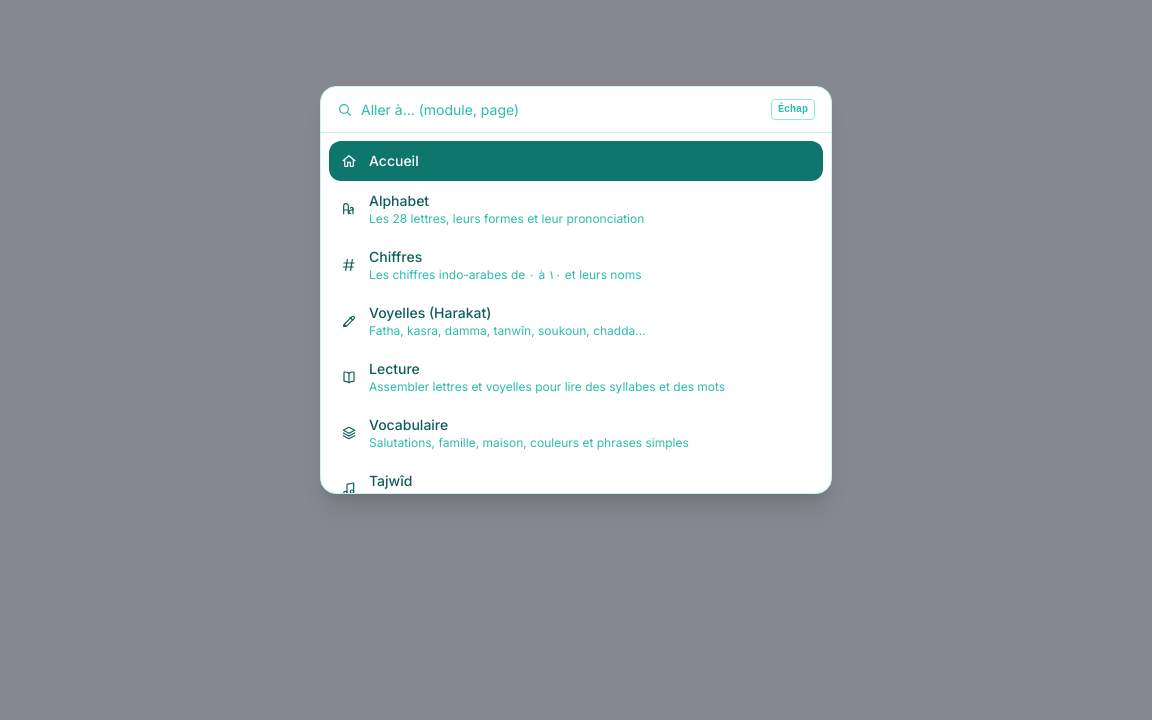
CommandPalette › trouve un mot de vocabulaire via sa traduction française (recherche plein texte)
The width and height of the screenshot is (1152, 720).
Type "Merci" into the field with placeholder "Aller à… (module, page)" at (562, 110), box [361,100,763,120]
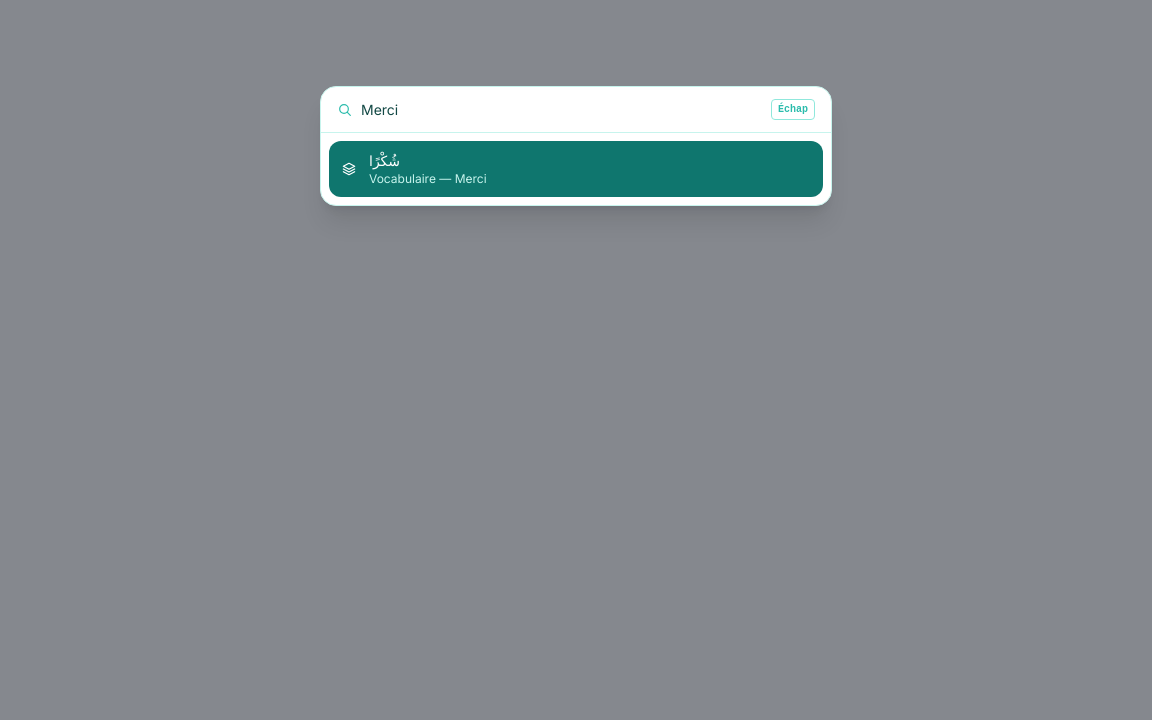
Expected: the text "Vocabulaire — Merci" is shown, [369,171,487,186]
